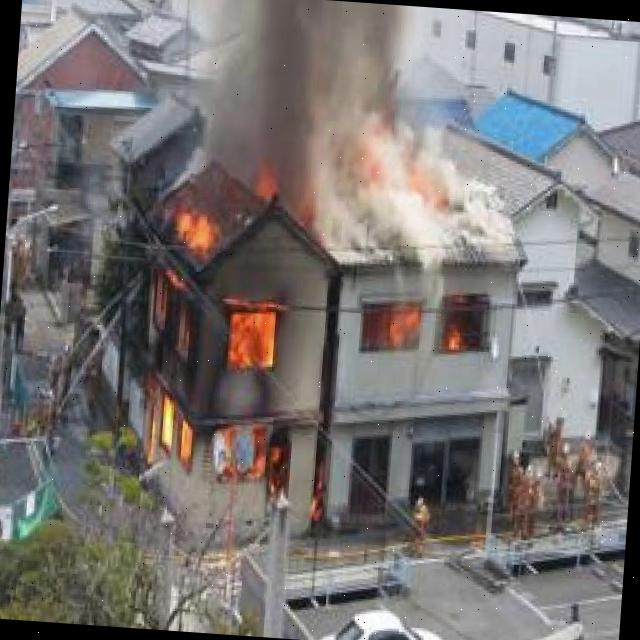fire: (128, 205, 306, 514), (353, 296, 488, 354)
